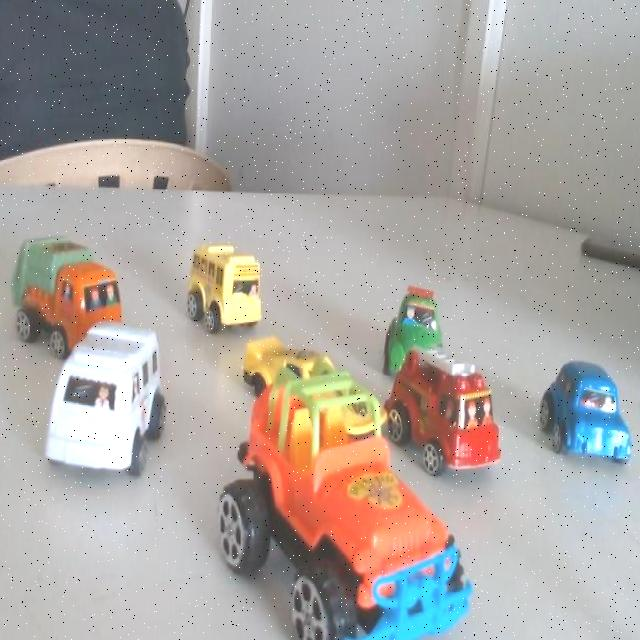car: (331, 481, 481, 640), (256, 338, 400, 477), (541, 351, 640, 483), (62, 341, 172, 458), (419, 352, 510, 489), (33, 232, 135, 354), (392, 289, 464, 387), (211, 241, 272, 329)
